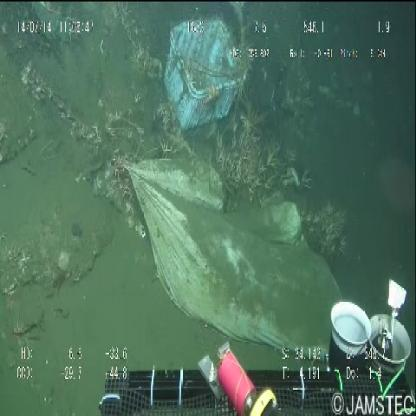Rov: (86, 262, 416, 416)
Rác: (160, 2, 257, 138)
